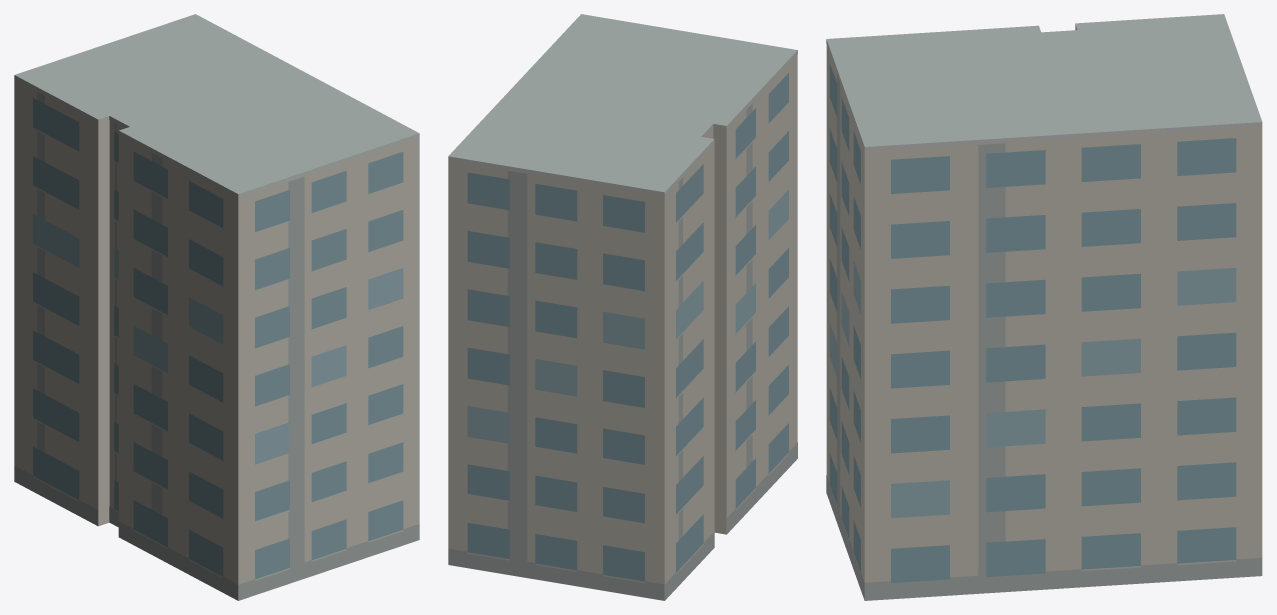
File: survey-upis-32786771.glb
3 views of the same model, side by side, from view 1: azimuth 30°, elevation 25°; view 2: azimuth 150°, elevation 25°; view 3: azimuth 270°, elevation 25° (orthographic). The views are drawn at different scales.
Visible parts, largest first — view 1: survey-upis-32786771.tmp; view 2: survey-upis-32786771.tmp; view 3: survey-upis-32786771.tmp.
Part boxes in pixels (x1,y1,x2,y2): survey-upis-32786771.tmp: (14, 14, 419, 600); survey-upis-32786771.tmp: (448, 14, 797, 600); survey-upis-32786771.tmp: (826, 14, 1262, 600).
Bounding box in the file's own units: 13.74 × 21.85 × 19.03.
